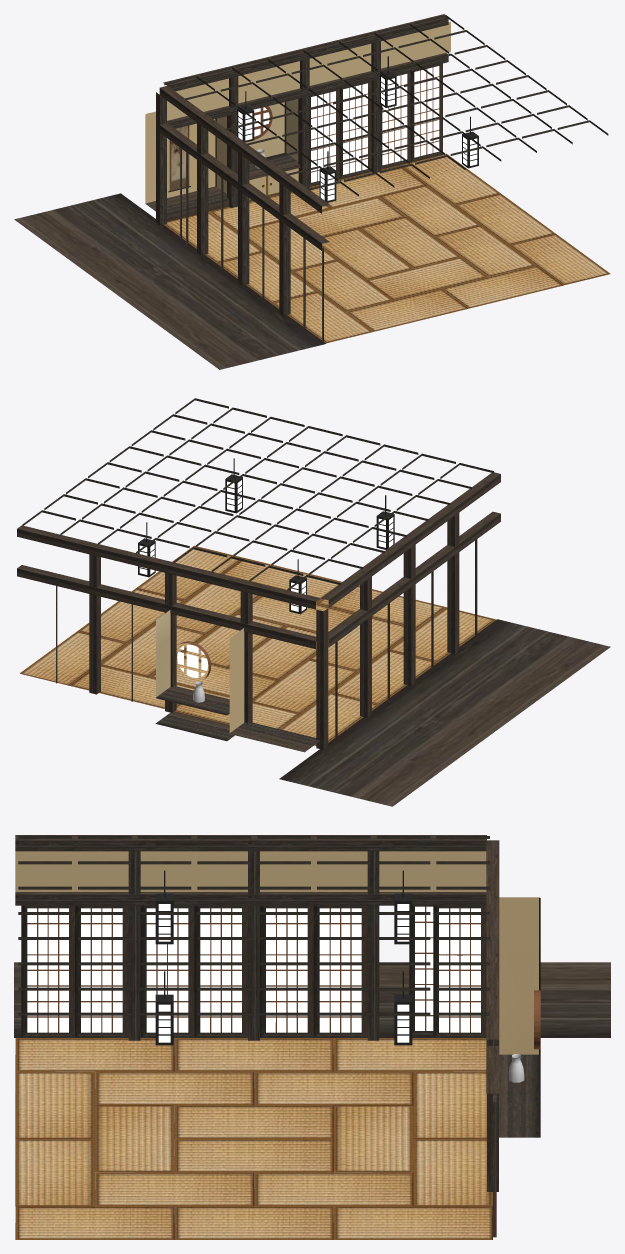
File: Interior.glb
The picture shows the model from 3 angles, top to bottom: view 1: azimuth 30°, elevation 25°; view 2: azimuth 150°, elevation 25°; view 3: azimuth 270°, elevation 25°; orthographic projection. The views are drawn at different scales.
Visible parts, largest first — view 1: OutsideFloor, Roof, UpperWall, PaintingCarriage, Support.009, Door.003, Door, Tatami.005, Tatami.015, Tatami.007, Tatami.006, Tatami.016 (+28 smaller); view 2: OutsideFloor, Roof, Support.009, Support.007, WindowCarriage, Support, PaintingCarriage, Support.006, Tatami.014, Tatami.002, Lamp, Tatami.012 (+23 smaller); view 3: UpperWall.001, Roof, OutsideFloor, WindowCarriage, Support, Door.008, Door.007, Door.009, Door.010, Door.004, Door.005, Support.006 (+29 smaller).
Boxes of the visible parts, x1,y1,x2,y2 form: OutsideFloor: [14, 193, 325, 369]; Roof: [164, 15, 608, 196]; UpperWall: [167, 22, 450, 120]; PaintingCarriage: [145, 111, 229, 221]; Support.009: [163, 14, 448, 91]; Door.003: [410, 63, 442, 161]; Door: [339, 81, 371, 179]; Tatami.005: [366, 257, 487, 300]; Tatami.015: [346, 289, 467, 331]; Tatami.007: [441, 265, 562, 308]; Tatami.006: [434, 225, 535, 276]; Tatami.016: [359, 217, 460, 268]; OutsideFloor: [279, 619, 610, 806]; Roof: [22, 398, 493, 590]; Support.009: [17, 525, 320, 609]; Support.007: [17, 565, 316, 648]; WindowCarriage: [155, 610, 234, 741]; Support: [321, 472, 500, 607]; PaintingCarriage: [229, 628, 319, 752]; Support.006: [328, 511, 500, 647]; Tatami.014: [20, 631, 127, 685]; Tatami.002: [252, 659, 358, 713]; Lamp: [138, 458, 394, 614]; Tatami.012: [390, 607, 496, 661]; UpperWall.001: [15, 851, 486, 891]; Roof: [18, 836, 489, 1015]; OutsideFloor: [14, 962, 610, 1037]; WindowCarriage: [499, 949, 540, 1137]; Support: [15, 835, 486, 851]; Door.008: [313, 905, 367, 1037]; Door.007: [194, 905, 247, 1037]; Door.009: [433, 905, 486, 1037]; Door.010: [260, 905, 313, 1037]; Door.004: [75, 905, 128, 1037]; Door.005: [21, 905, 74, 1037]; Support.006: [15, 892, 486, 905].
Size of the model in its own units: 11.13 by 3.8 by 10.
4 materials, 1 textured.
